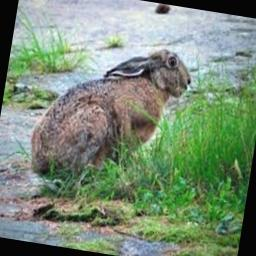rabbit: (31, 50, 191, 173)
